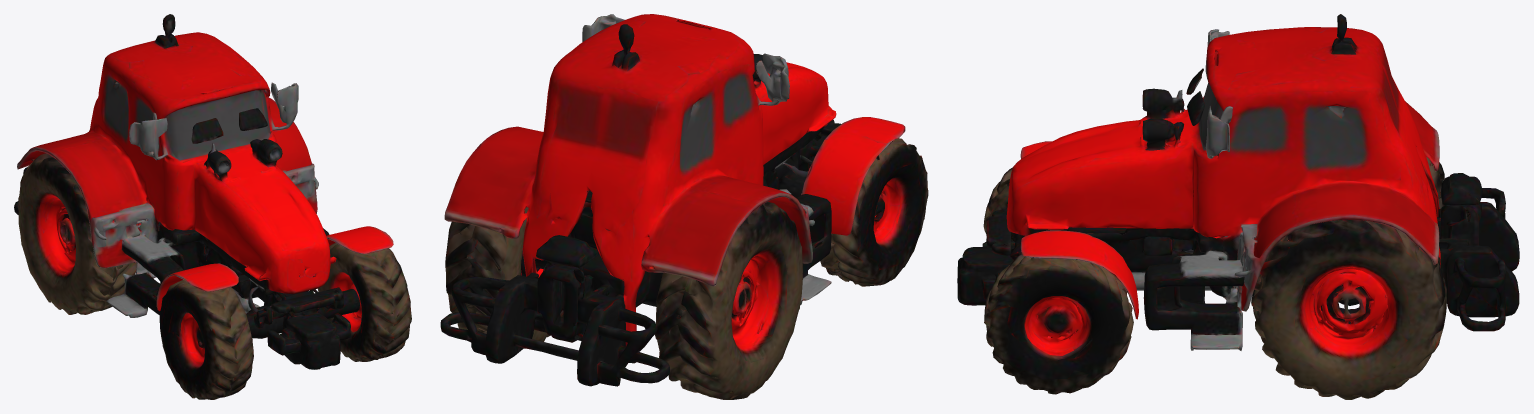
File: tractor_1.glb
The picture shows the model from 3 angles, left to right: view 1: azimuth 30°, elevation 25°; view 2: azimuth 150°, elevation 25°; view 3: azimuth 270°, elevation 25°; orthographic projection. The views are drawn at different scales.
Visible parts, largest first — view 1: world; view 2: world; view 3: world.
Boxes of the visible parts, bbox=[...] form: world: bbox=[14, 14, 411, 399]; world: bbox=[440, 14, 928, 399]; world: bbox=[957, 14, 1519, 399].
Bounding box in the file's own units: 0.558 × 0.6444 × 1.
1 material, 1 textured.
